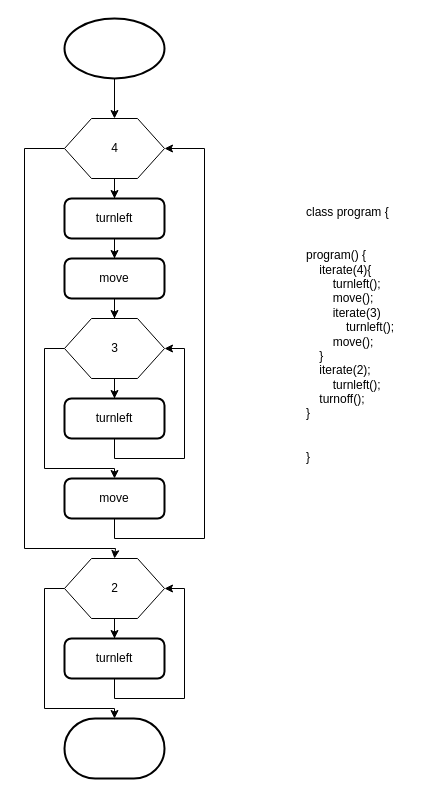
Some shapes in this 442 by 796 pixel diagram are drawn without their labels. Each missing label, with the box of its shape:
FIN: (63, 717, 165, 779)
INICIO: (63, 17, 165, 79)
